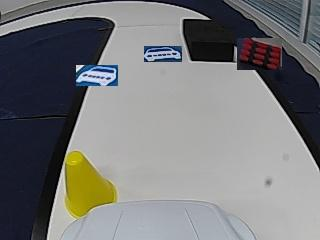block: (182, 19, 234, 60)
cone: (62, 151, 117, 204)
